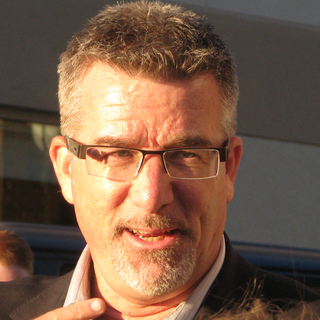eye: (97, 144, 136, 166), (169, 144, 204, 165)
